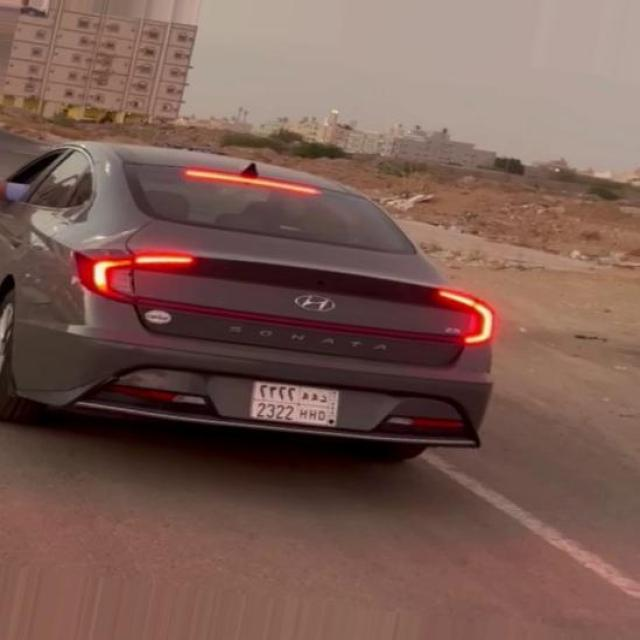Car-plate: (248, 362, 350, 448)
